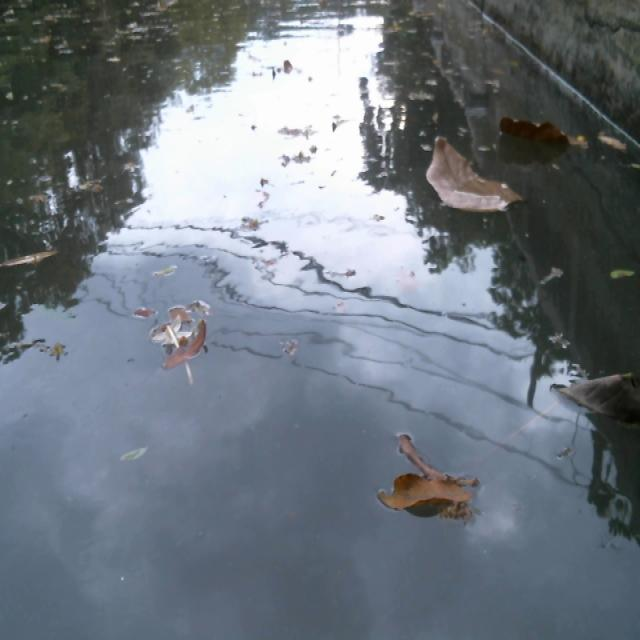Big-leaf: (425, 130, 527, 229), (558, 356, 640, 444), (495, 108, 588, 162), (379, 471, 469, 519)
Small-leaf: (388, 418, 455, 477), (0, 239, 61, 278), (153, 302, 223, 334), (274, 145, 332, 178), (275, 122, 335, 148), (278, 331, 315, 371), (174, 330, 209, 372), (155, 264, 193, 296), (25, 335, 73, 360), (268, 51, 297, 86), (609, 250, 635, 286), (122, 441, 152, 471), (534, 261, 564, 288), (602, 130, 630, 157), (413, 88, 432, 116)
